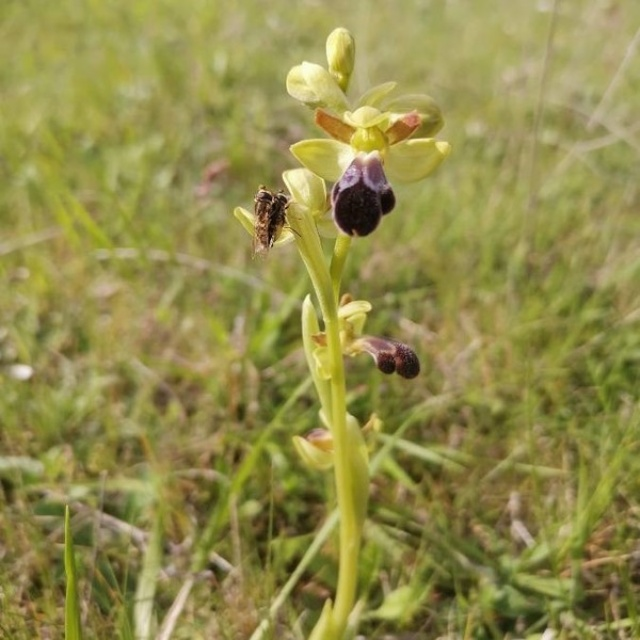obstacle: (215, 14, 435, 610)
